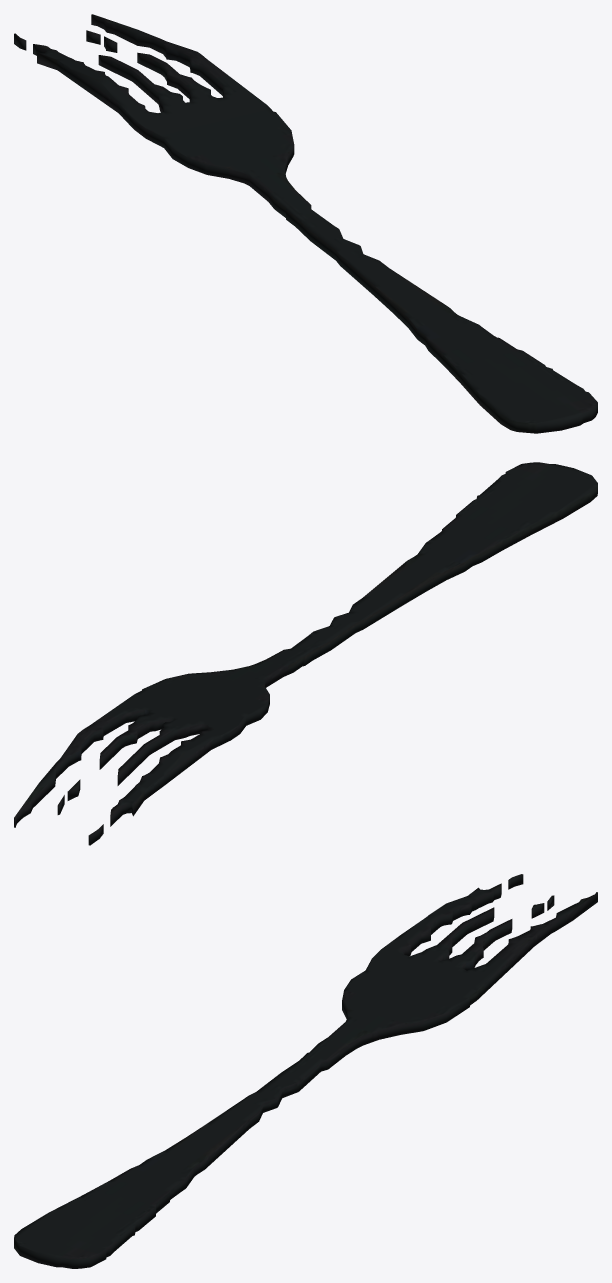
The picture shows the model from 3 angles, top to bottom: view 1: azimuth 30°, elevation 25°; view 2: azimuth 150°, elevation 25°; view 3: azimuth 330°, elevation 25°; orthographic projection. The views are drawn at different scales.
Parts seen in each view (by area): view 1: body; view 2: body; view 3: body.
Boxes of the visible parts, x1,y1,x2,y2 form: body: [14, 14, 597, 433]; body: [14, 462, 597, 845]; body: [14, 874, 597, 1268].
Bounding box in the file's own units: 0.0259 × 0.00771 × 0.1938.
Materials: 1 (1 with a texture image).
